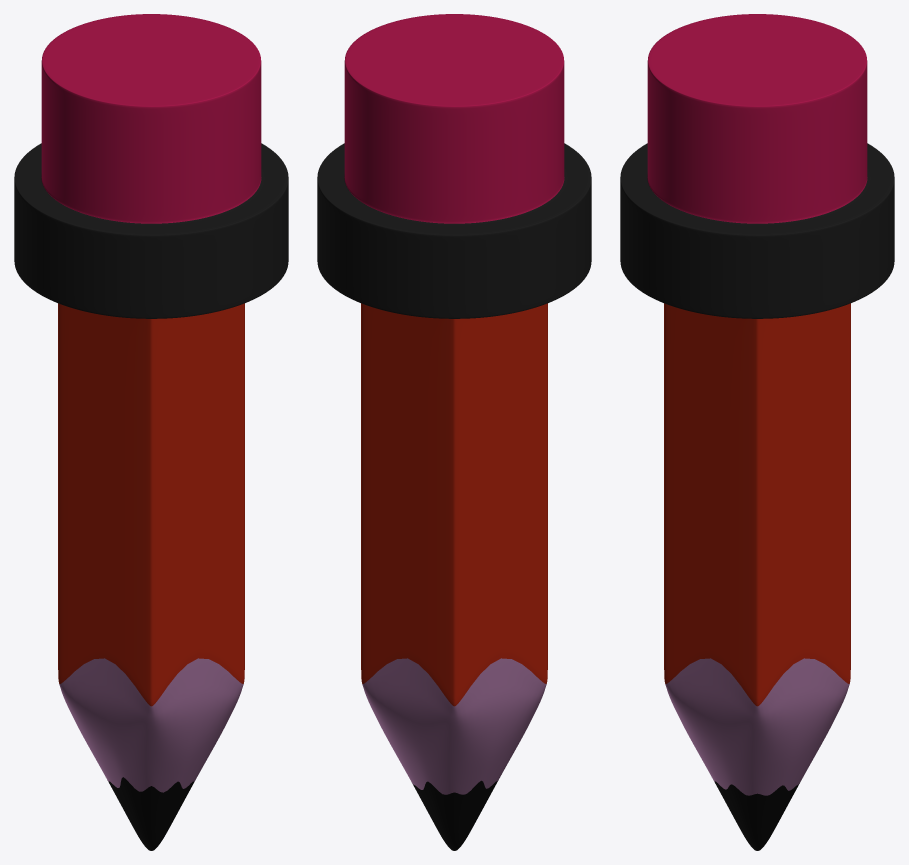
File: karandasch.obj
3 renders of one model, left to right at view 1: azimuth 30°, elevation 25°; view 2: azimuth 150°, elevation 25°; view 3: azimuth 270°, elevation 25°, orthographic.
Parts seen in each view (by area): view 1: Цилиндр_Цилиндр.001; view 2: Цилиндр_Цилиндр.001; view 3: Цилиндр_Цилиндр.001.
Boxes of the visible parts, box(x1,y1,x2,y2) form: Цилиндр_Цилиндр.001: box(14, 14, 288, 850); Цилиндр_Цилиндр.001: box(317, 14, 591, 850); Цилиндр_Цилиндр.001: box(620, 14, 894, 850).
Size of what is drawn, in the model's own units: 0.1524 by 0.4846 by 0.1524.
